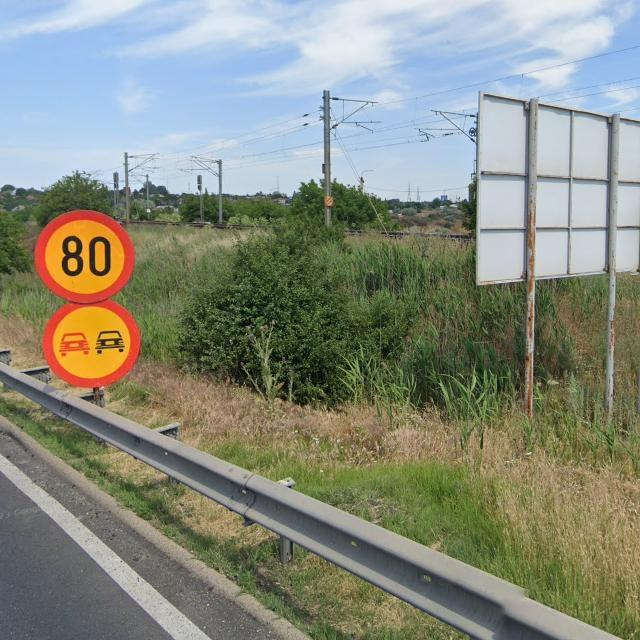forb_overtake: (42, 300, 142, 387)
forb_speed_over_80: (33, 210, 135, 305)
